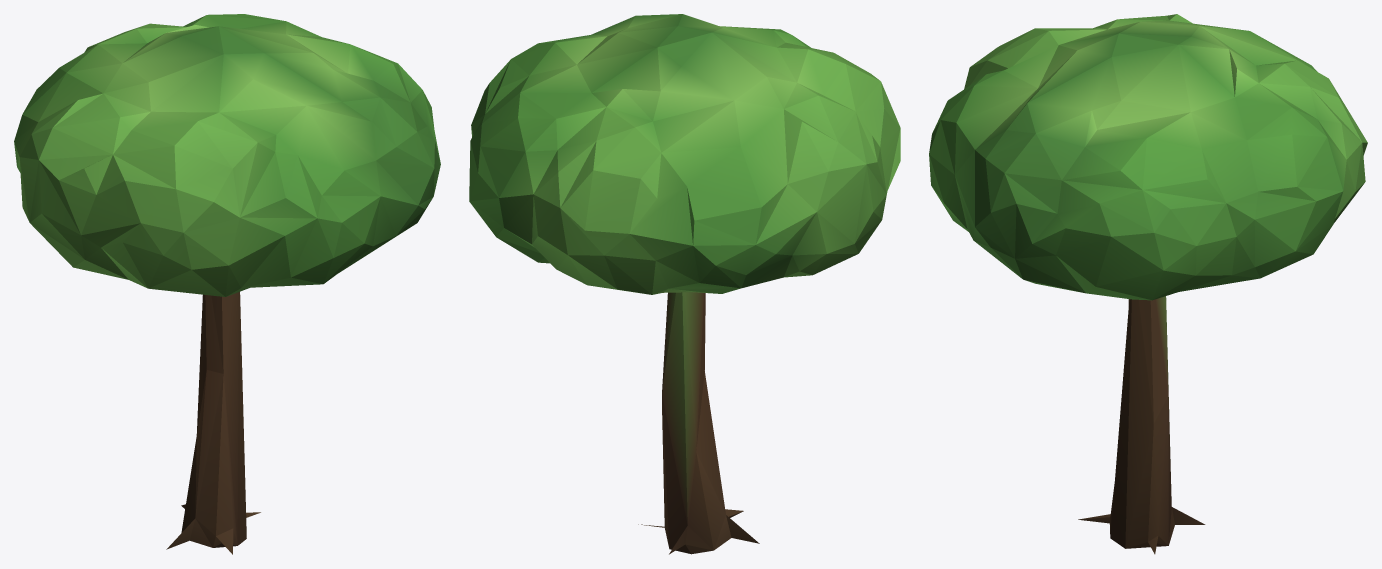
Rendered from broadleaf_mature_medium_rounded_healthy_far.glb.
The picture shows the model from 3 angles, left to right: view 1: azimuth 30°, elevation 25°; view 2: azimuth 150°, elevation 25°; view 3: azimuth 270°, elevation 25°; orthographic projection.
Visible parts, largest first — view 1: broadleaf_mature_medium_rounded_healthy_LOD3; view 2: broadleaf_mature_medium_rounded_healthy_LOD3; view 3: broadleaf_mature_medium_rounded_healthy_LOD3.
Part boxes in pixels (<box>): broadleaf_mature_medium_rounded_healthy_LOD3: <box>14,14,440,554</box>; broadleaf_mature_medium_rounded_healthy_LOD3: <box>469,14,900,554</box>; broadleaf_mature_medium_rounded_healthy_LOD3: <box>929,14,1367,554</box>.
Size of the model in its own units: 3.29 by 4.11 by 3.24.
